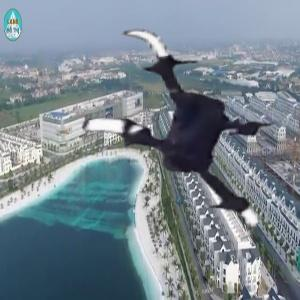drone: (51, 17, 295, 261)
